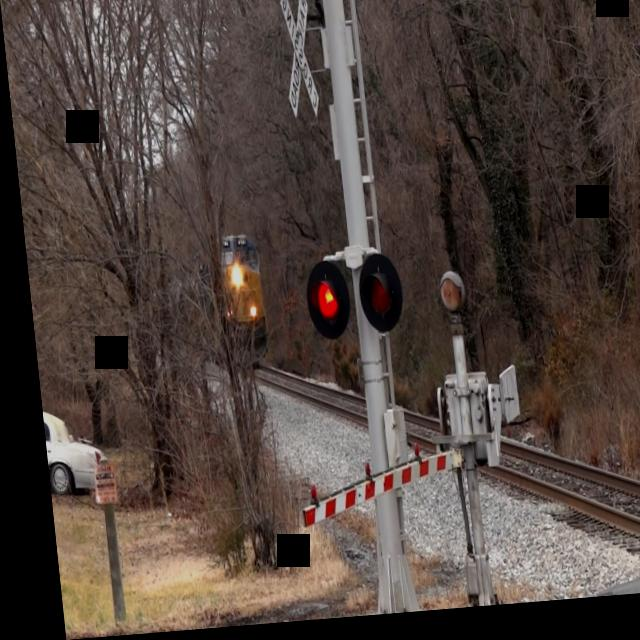locomotive: (202, 227, 266, 381)
